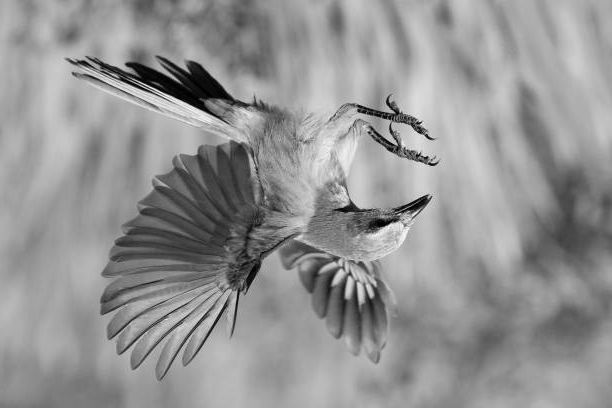Bird: (58, 44, 439, 384)
